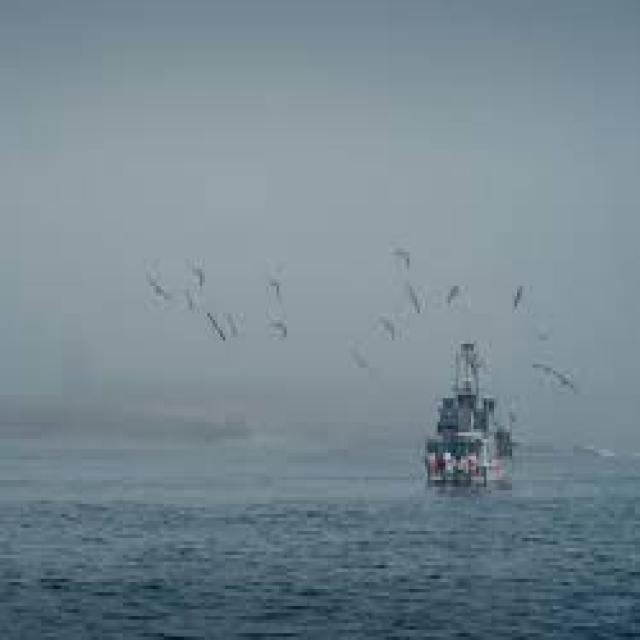fishing boat: (403, 331, 526, 500)
